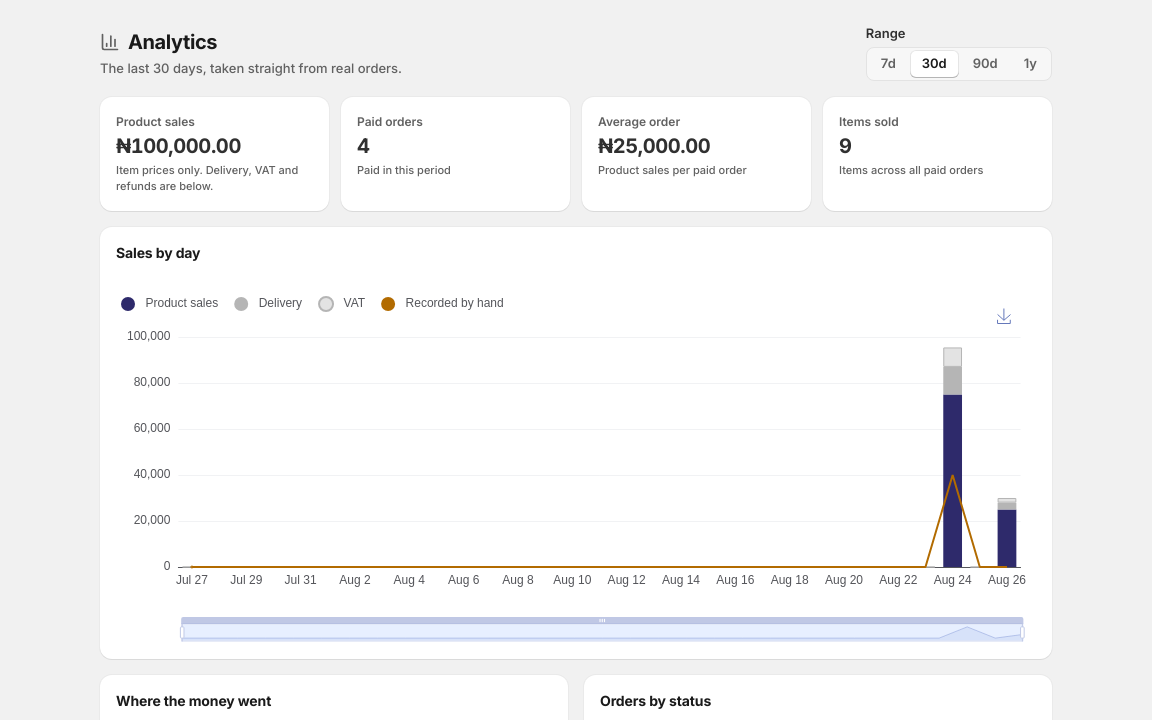
the analytics screen › asks with no days param by default, and refetches with ?days=90 when the picker moves
Expected: the text "4" is shown, 357,134 -> 370,158
Click the button "90d" at (985, 64), box 961,50 -> 1010,78
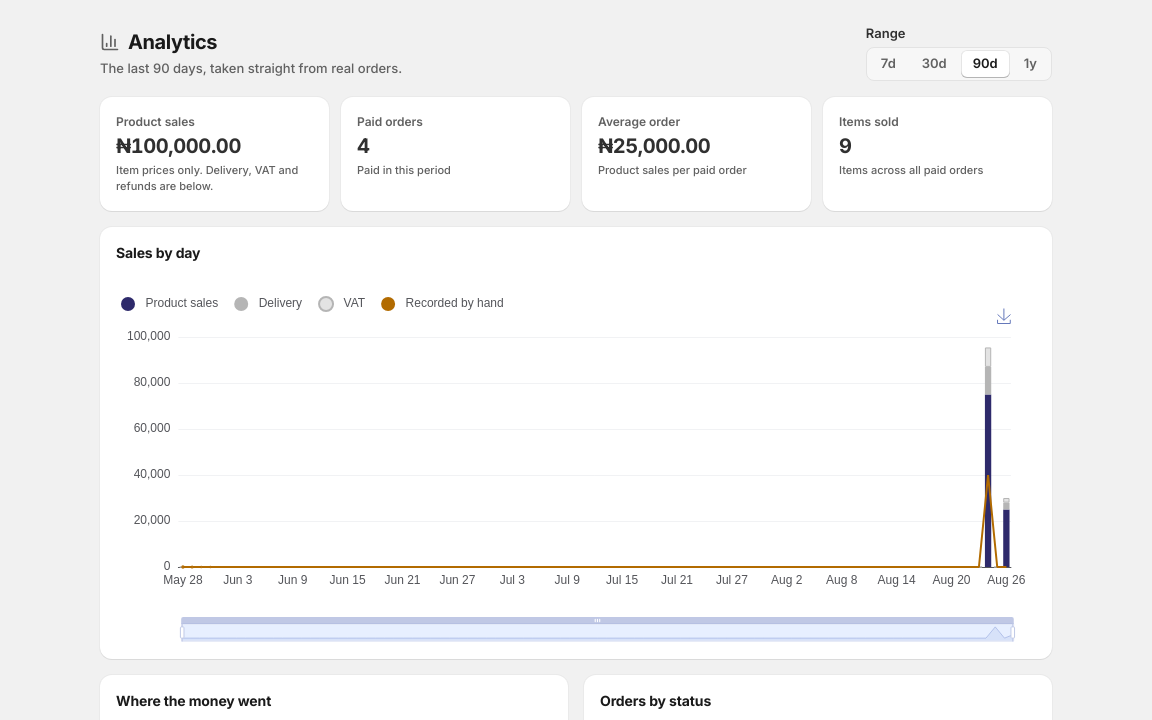
Now the text "The last 90 days, taken straight from real orders." is shown, box 100,58 -> 402,77
